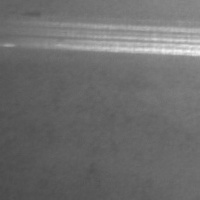scratches: (22, 23, 200, 56)
